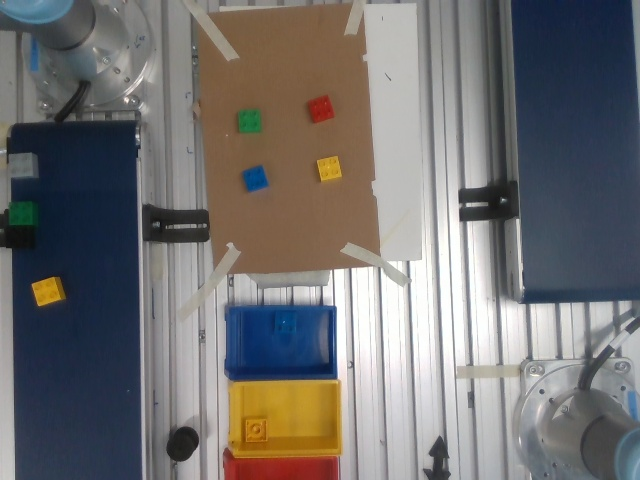duplo_4_blue: (234, 159, 273, 197)
duplo_4_red: (299, 88, 343, 130)
duplo_4_yellow: (309, 152, 353, 192)
ignore: (227, 102, 273, 141)
